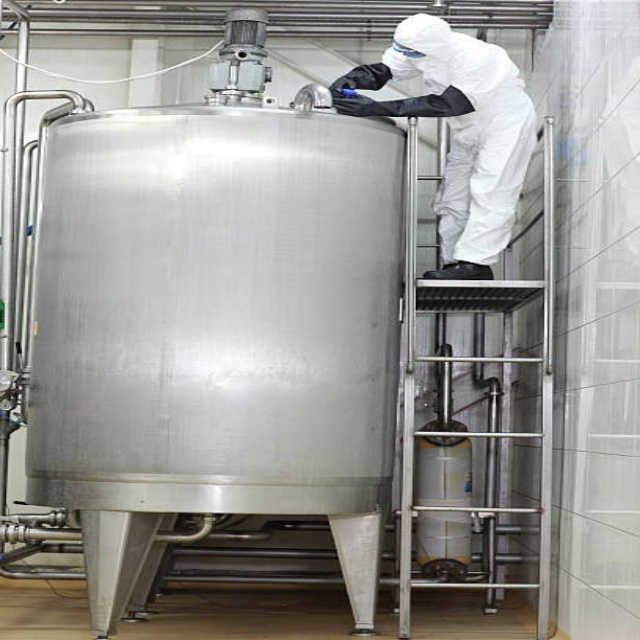Gafas: (391, 41, 425, 58)
Guantes: (336, 85, 475, 120), (322, 62, 389, 89)
